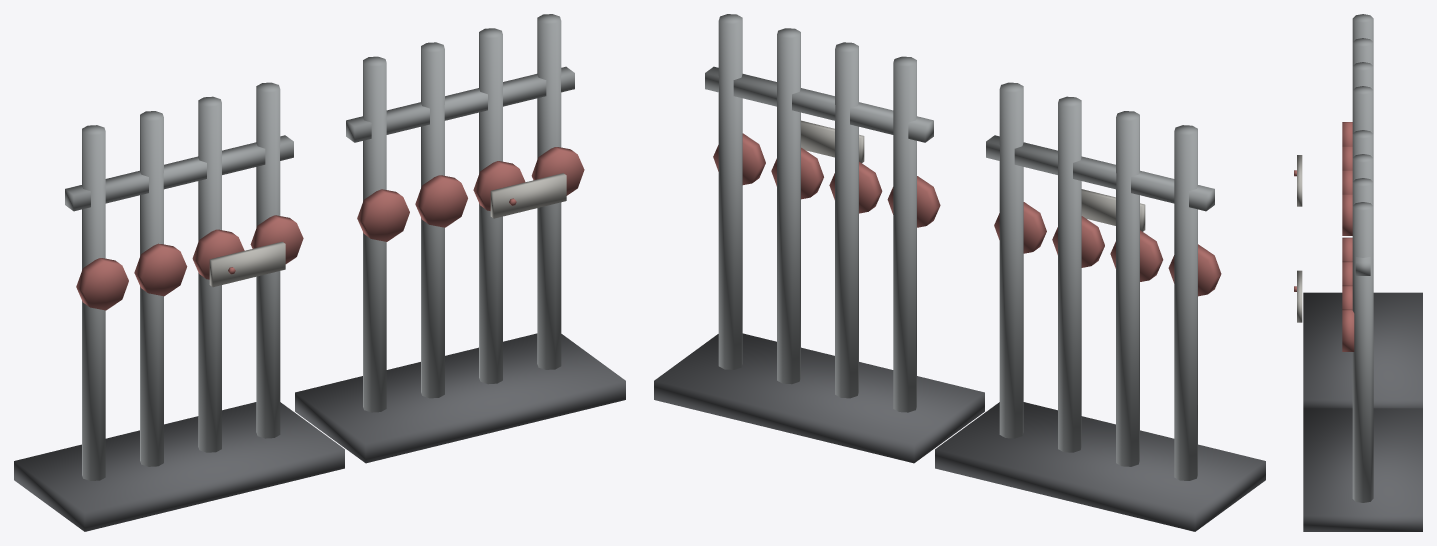
File: radiator_manifold__cluster.glb
3 views of the same model, side by side, from view 1: azimuth 30°, elevation 25°; view 2: azimuth 150°, elevation 25°; view 3: azimuth 270°, elevation 25° (orthographic). The views are drawn at different scales.
Parts seen in each view (by area): view 1: world; view 2: world; view 3: world.
Boxes of the visible parts, box(x1,y1,x2,y2) form: world: box(14, 14, 625, 531); world: box(654, 14, 1265, 531); world: box(1294, 14, 1422, 531).
Bounding box in the file's own units: 1.77 × 1.14 × 0.431.
